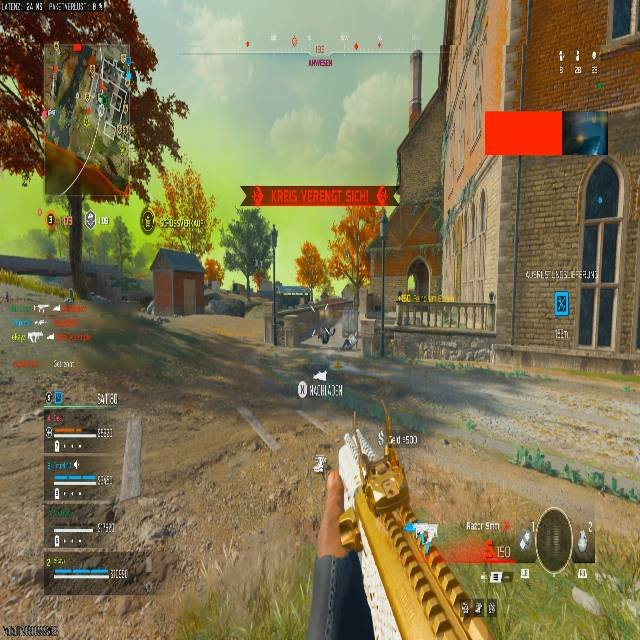player: (227, 207, 278, 291), (341, 330, 357, 350)
